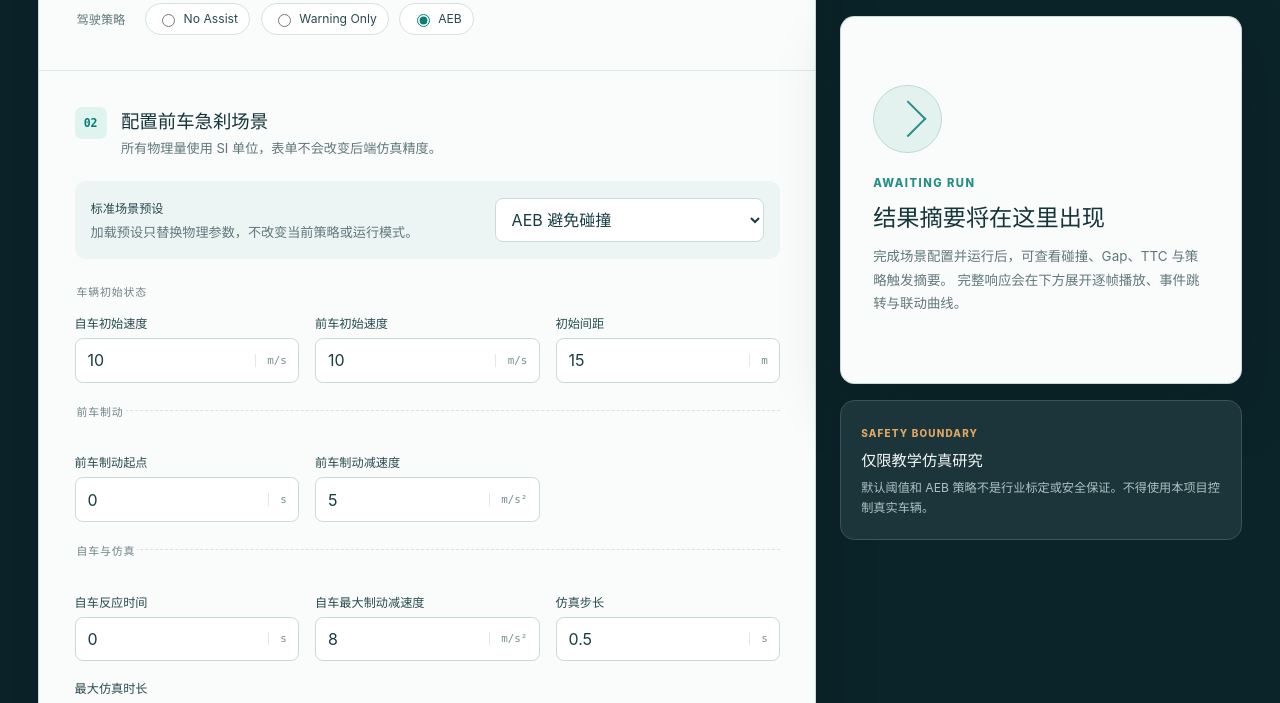
Scenario: Dashboard configuration workflow › blocks invalid form submission and focuses the first invalid field
This screenshot has width=1280, height=703.
(page scrolled)
Clear the number field labelled "初始间距" at (653, 360), box left=556, top=339, right=749, bottom=382
(page scrolled)
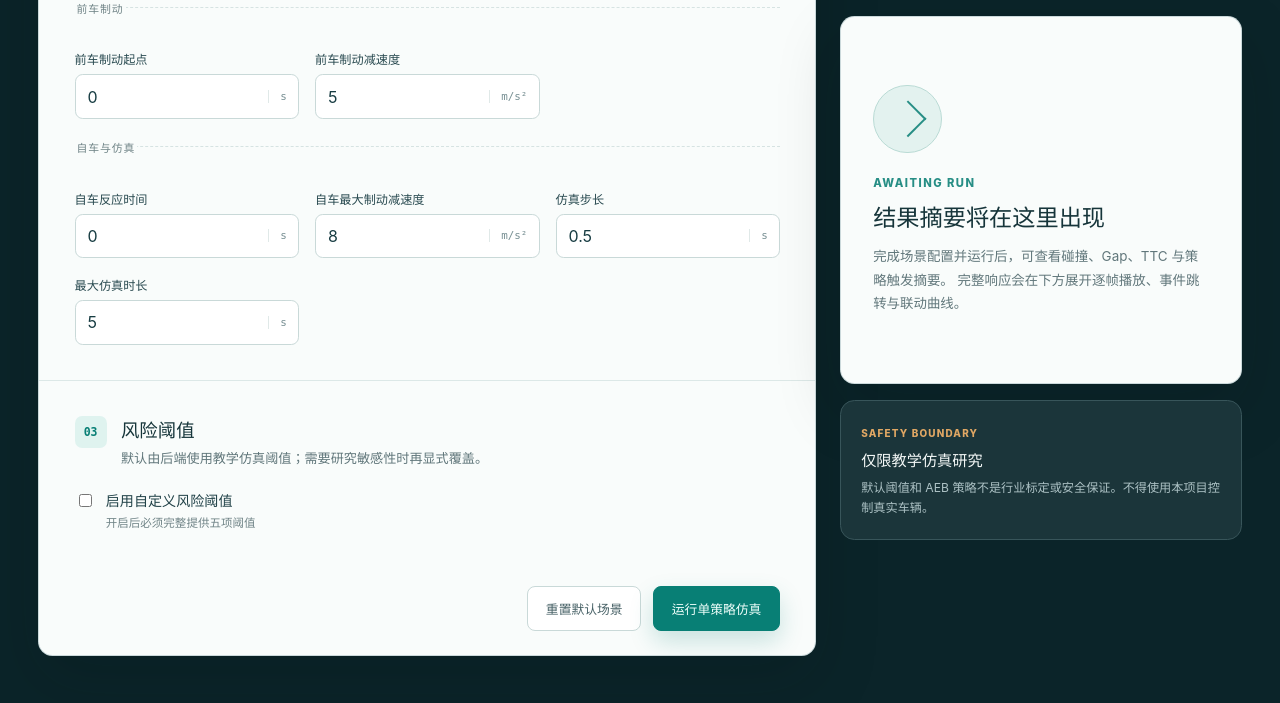
Click the button "运行单策略仿真".
click(717, 609)  # box left=653, top=586, right=780, bottom=631
(page scrolled)
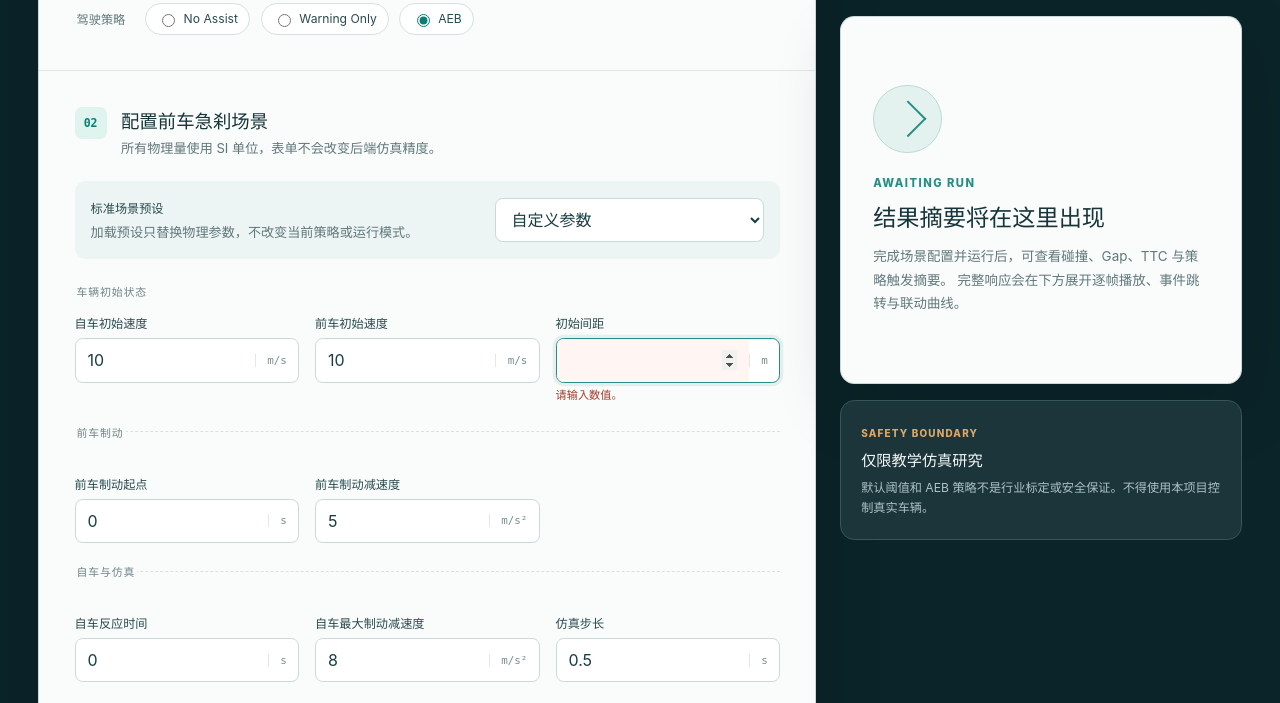
Now the text "请输入数值。" is shown, box left=556, top=388, right=623, bottom=402
